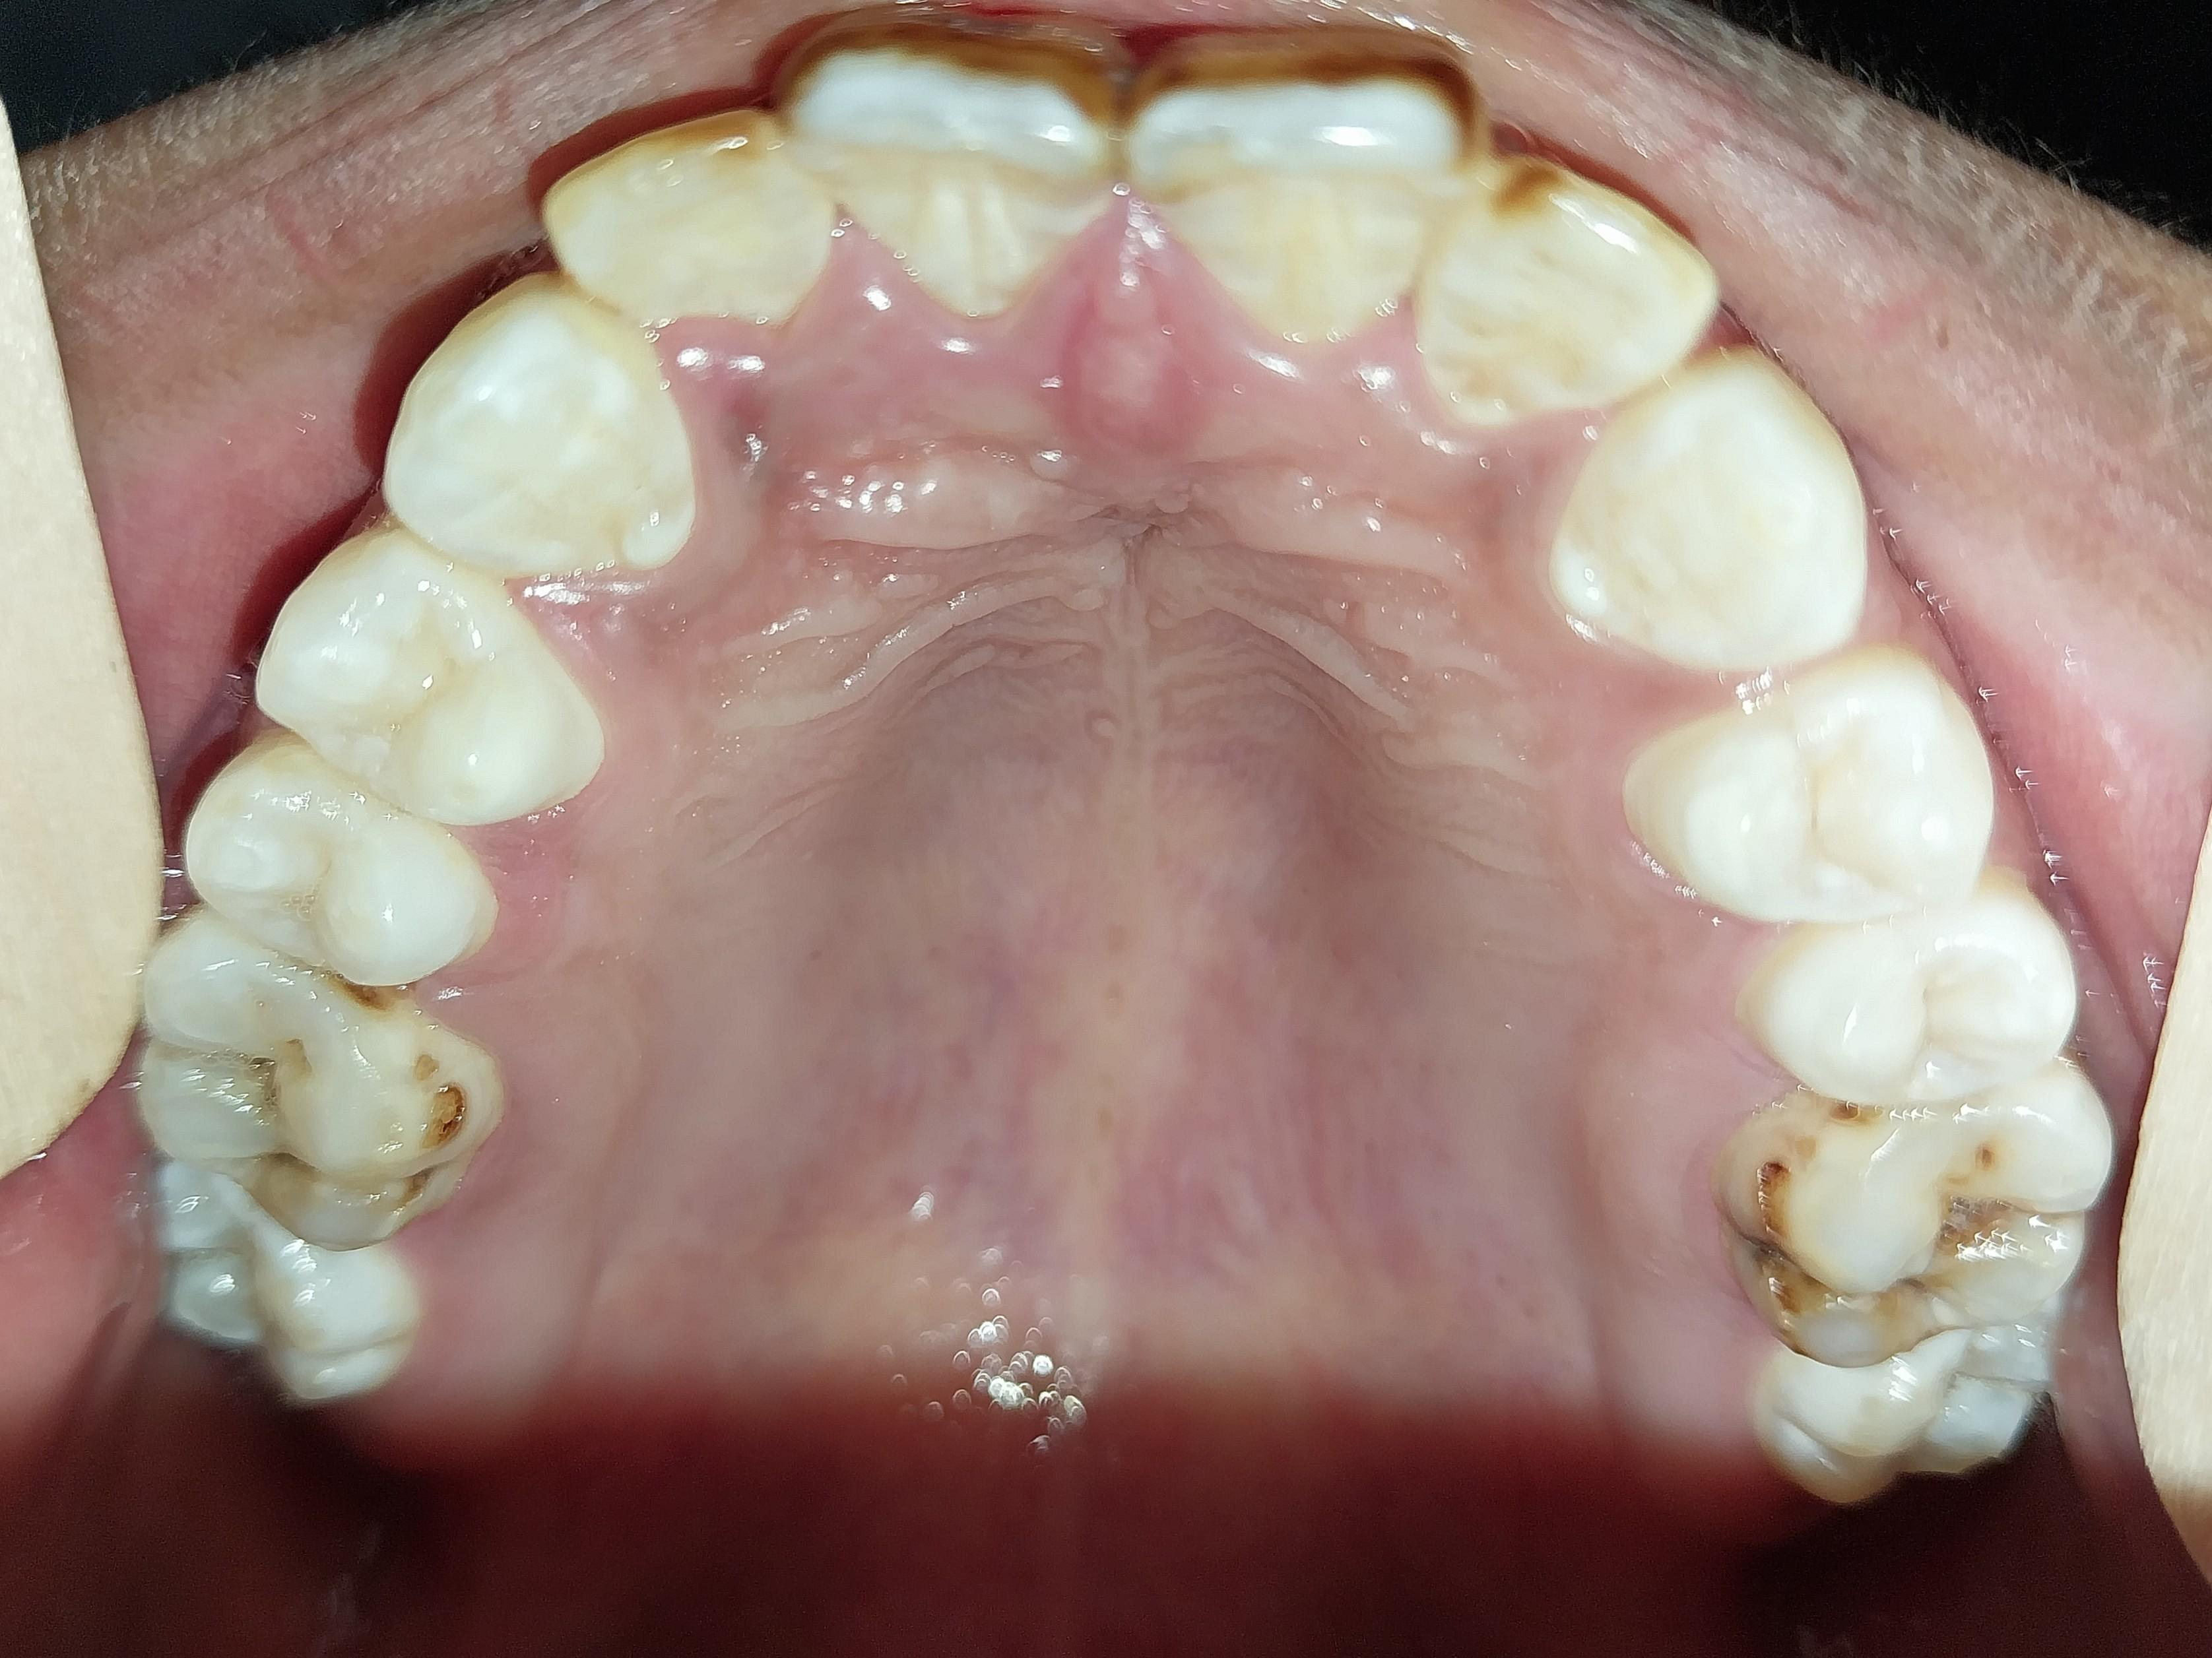D: (141, 912, 489, 1253), (1736, 1066, 2114, 1372)
